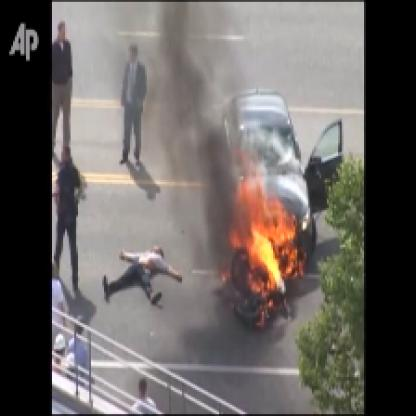Fire: (218, 145, 306, 317)
Smoke: (146, 2, 240, 264)
